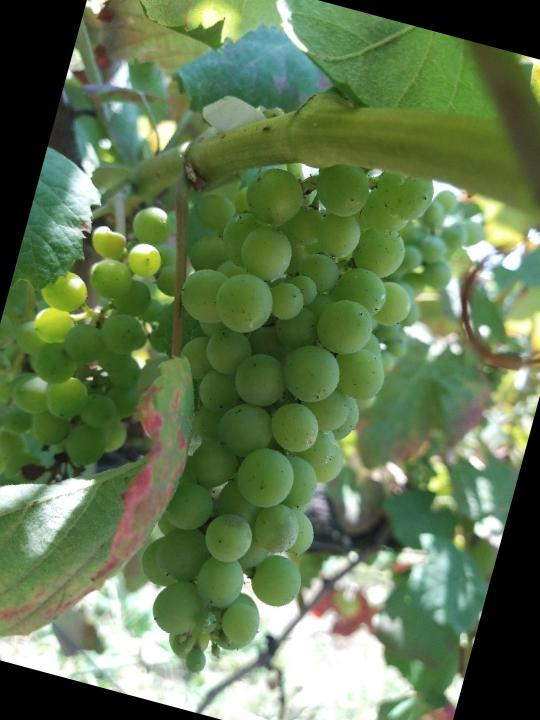grape: (70, 118, 453, 711)
